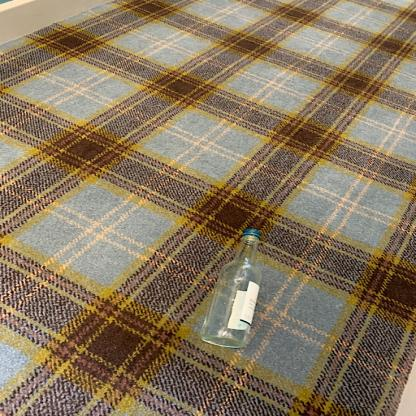trash: (196, 228, 267, 352)
